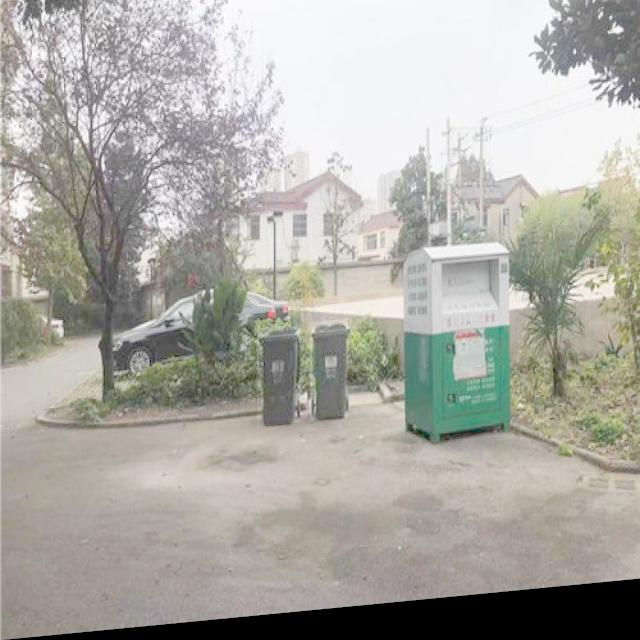garbage_bin: (257, 330, 301, 431), (310, 325, 348, 427)
